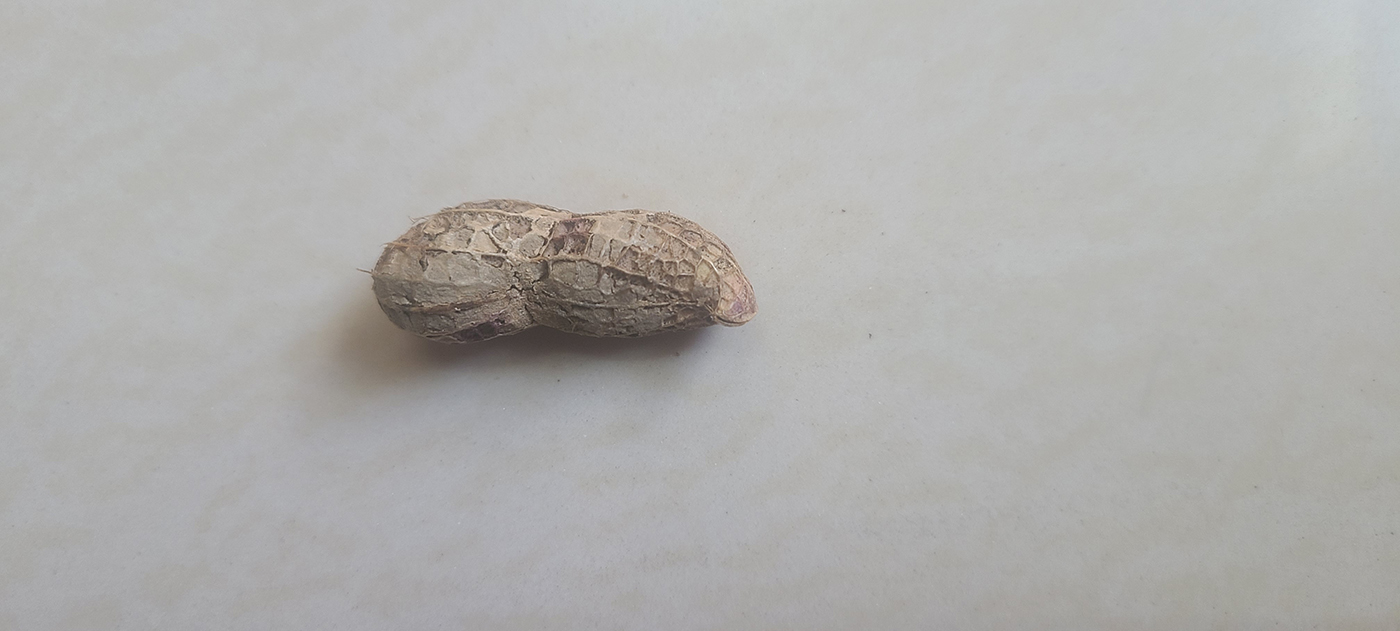l: (367, 196, 757, 351)
